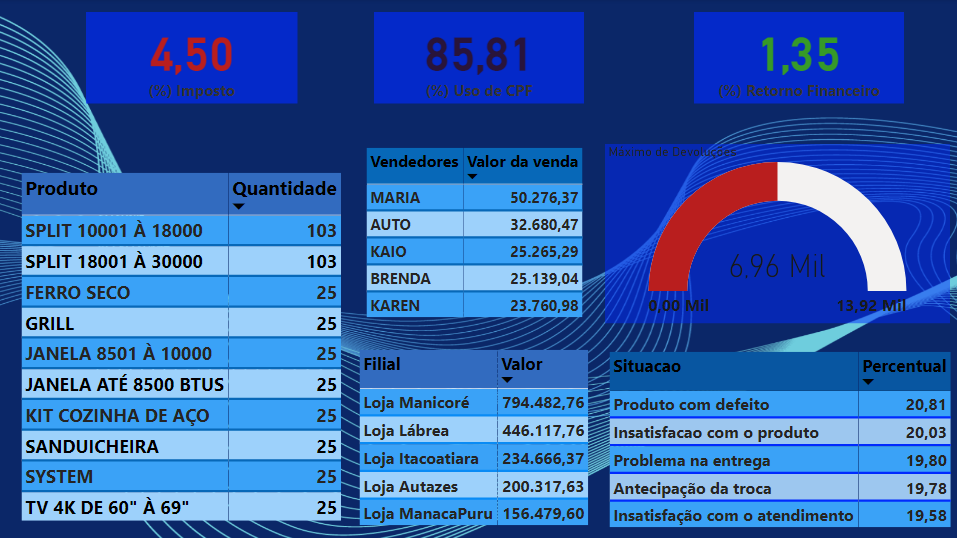

This screenshot's page, from the dashboard's own definition file:
{"tool":"powerbi","page":{"name":"Página 1","canvas":[1280,720],"ordinal":0},"visuals":[{"type":"card","fields":{"Values":["Imposto.Imposto"]},"box":[116.7,17.9,281.9,122.1],"z":0},{"type":"card","fields":{"Values":["Retorno Financeiro por desconto.Retorno Financeiro"]},"box":[928.1,17.9,280.1,122.1],"z":1000},{"type":"card","fields":{"Values":["Uso de CPF.Uso de CPF"]},"box":[500.9,17.9,280.1,122.1],"z":2000},{"type":"gauge","fields":{"Y":["df_devolucoes.quantidade"]},"box":[809.6,193.9,459.6,238.8],"z":3000},{"type":"tableEx","fields":{"Values":["df_produtos.nome_produto","df_produtos.quantidade"]},"box":[25.1,226.2,443.4,475.7],"z":4000},{"type":"tableEx","fields":{"Values":["df_filial.nome_filial","df_filial.valor_da_compra"]},"box":[475.7,463.2,333.9,244.2],"z":5000},{"type":"tableEx","fields":{"Values":["df_vendedor.nome_vendedor","df_vendedor.valor_da_compra"]},"box":[484.7,193.9,303.4,238.8],"z":6000},{"type":"tableEx","fields":{"Values":["df_motivos_devolucao.Situacao","df_motivos_devolucao.Percentual"]},"box":[809.6,465.1,470.4,254.9],"z":6001}]}

Visuals, with their boxes in screenshot pixels (x1, y1, x2, y2), scaled from the page's 1280x720 canvas onto the 957x538 screenshot:
card - Imposto.Imposto: bbox=[87, 13, 298, 105]
card - Retorno Financeiro por desconto.Retorno Financeiro: bbox=[694, 13, 903, 105]
card - Uso de CPF.Uso de CPF: bbox=[375, 13, 584, 105]
gauge - df_devolucoes.quantidade: bbox=[605, 145, 949, 323]
tableEx - df_produtos.nome_produto x df_produtos.quantidade: bbox=[19, 169, 350, 524]
tableEx - df_filial.nome_filial x df_filial.valor_da_compra: bbox=[356, 346, 605, 529]
tableEx - df_vendedor.nome_vendedor x df_vendedor.valor_da_compra: bbox=[362, 145, 589, 323]
tableEx - df_motivos_devolucao.Situacao x df_motivos_devolucao.Percentual: bbox=[605, 348, 956, 537]
